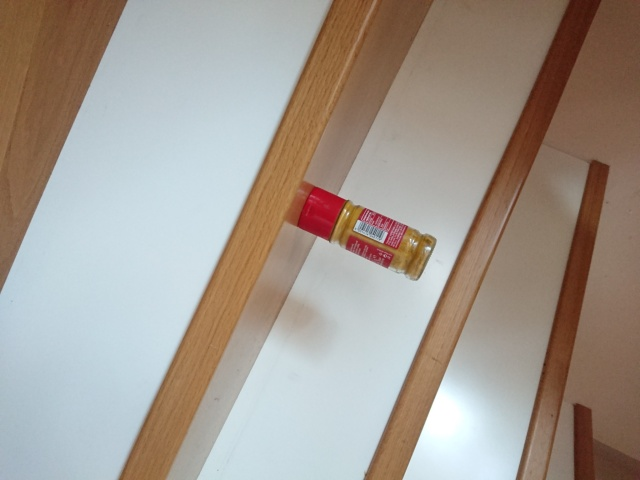Kotanyi Curry Spices Mix 70g: (295, 183, 439, 285)
